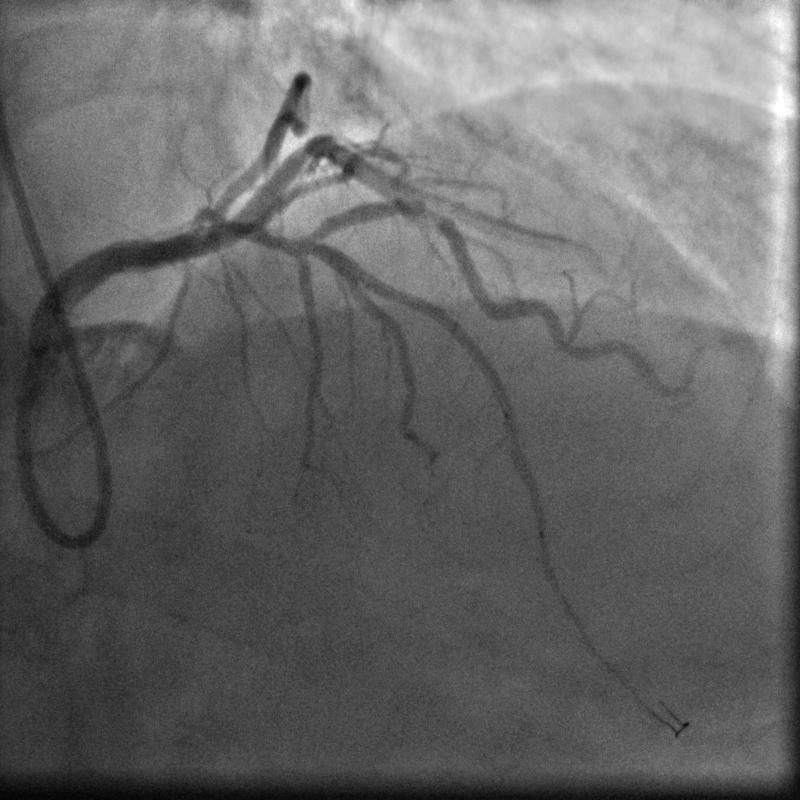Stenosis: (408, 191, 451, 240)
